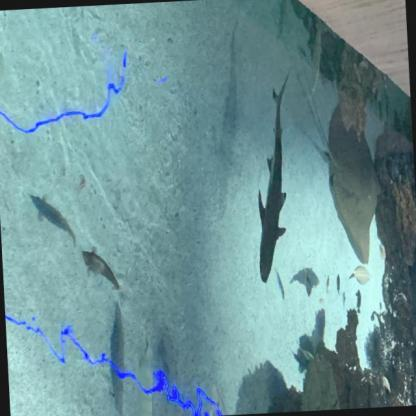fish: (28, 190, 76, 250), (81, 243, 126, 297), (351, 266, 372, 288), (274, 266, 286, 302), (302, 269, 312, 300), (355, 289, 363, 315), (335, 272, 342, 294)
shark: (250, 88, 291, 283)
stingray: (324, 96, 386, 266)
